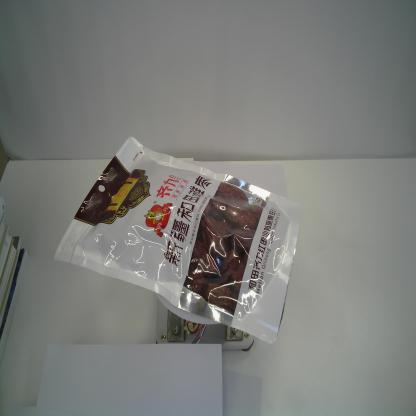Dried Food: (54, 136, 304, 345)
